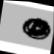correct: (20, 14, 52, 43)
